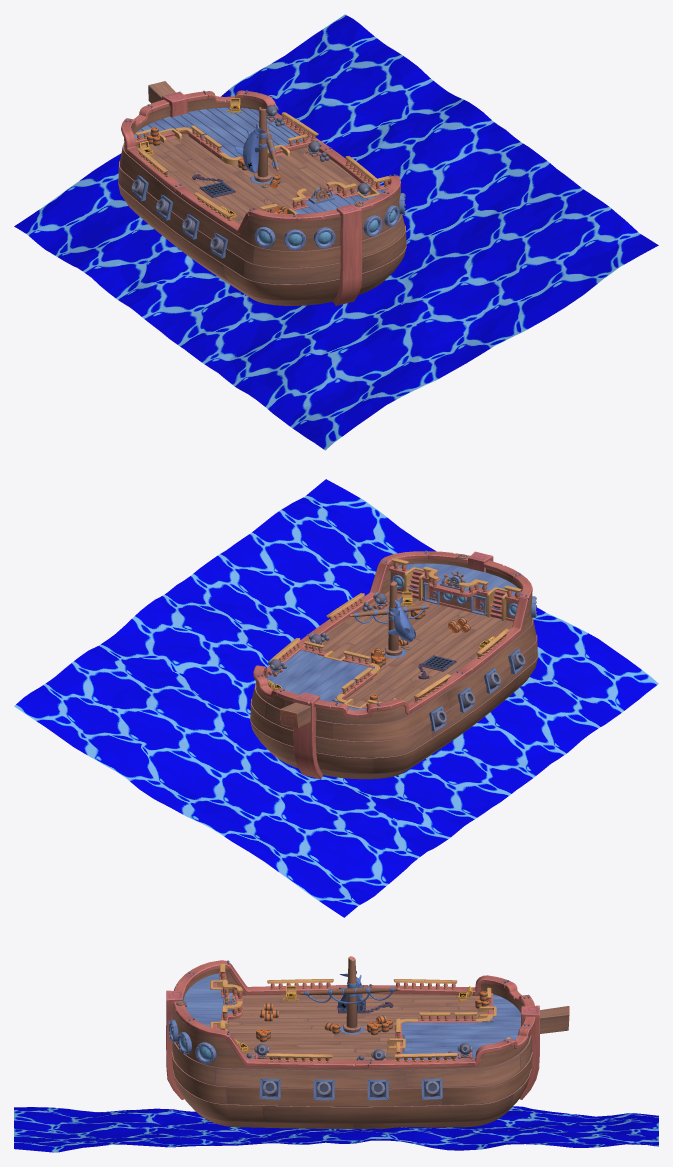
The model's file is sunken-lit.glb.
3 renders of one model, top to bottom at view 1: azimuth 30°, elevation 25°; view 2: azimuth 150°, elevation 25°; view 3: azimuth 270°, elevation 25°, orthographic. The views are drawn at different scales.
Visible parts, largest first — view 1: waterplane, SunkenShip, sm_ps_sharkmeath; view 2: waterplane, SunkenShip; view 3: SunkenShip, waterplane.
Part boxes in pixels (x1=…): waterplane: x1=14, y1=14, x2=658, y2=450; SunkenShip: x1=118, y1=81, x2=406, y2=305; sm_ps_sharkmeath: x1=235, y1=122, x2=265, y2=172; waterplane: x1=14, y1=479, x2=658, y2=917; SunkenShip: x1=250, y1=550, x2=537, y2=779; SunkenShip: x1=166, y1=956, x2=569, y2=1128; waterplane: x1=14, y1=1106, x2=658, y2=1152.
Size of the model in its own units: 51.47 by 28.18 by 78.69.
9 materials, 8 textured.
